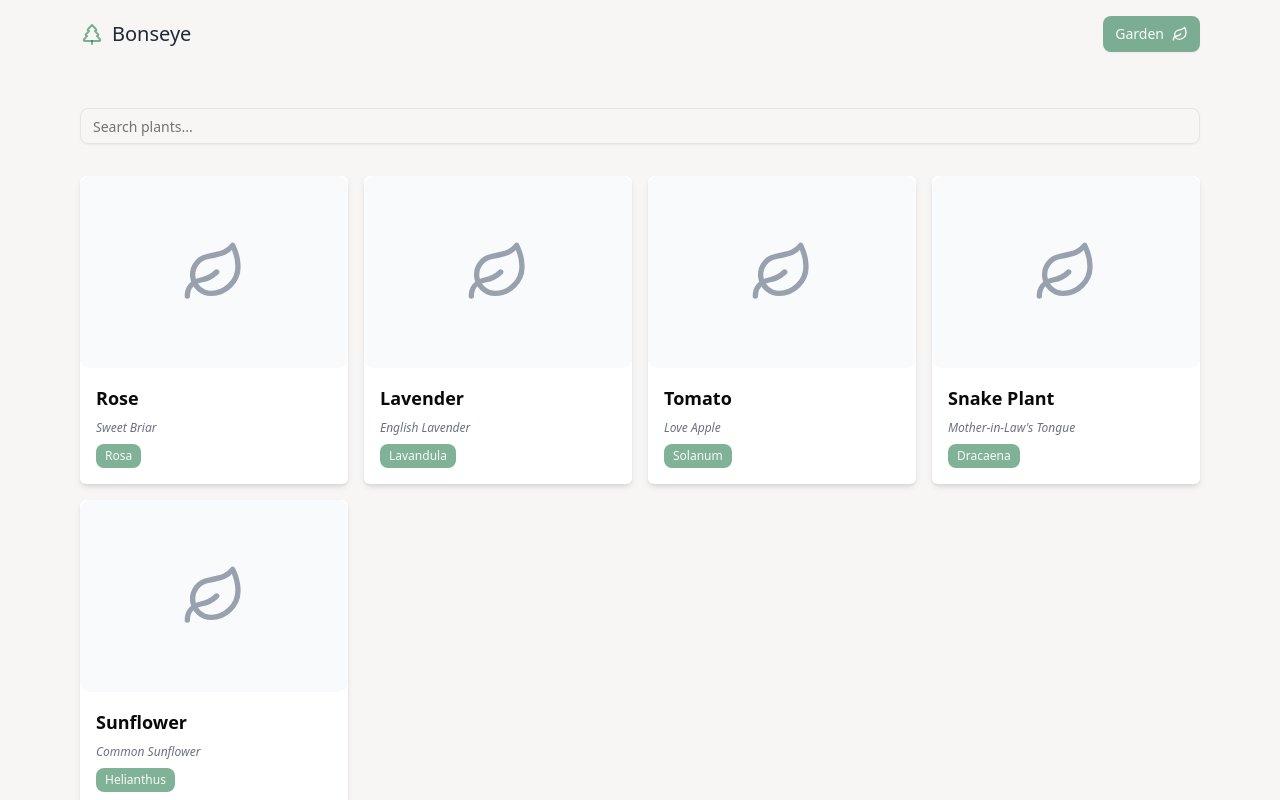
Test: Plant Details Page › toggles garden state from details page and reflects in garden
Click the element with test id "plant-card" showing "Rose Sweet Briar Rosa". click: (214, 330)
box: [80, 176, 348, 484]
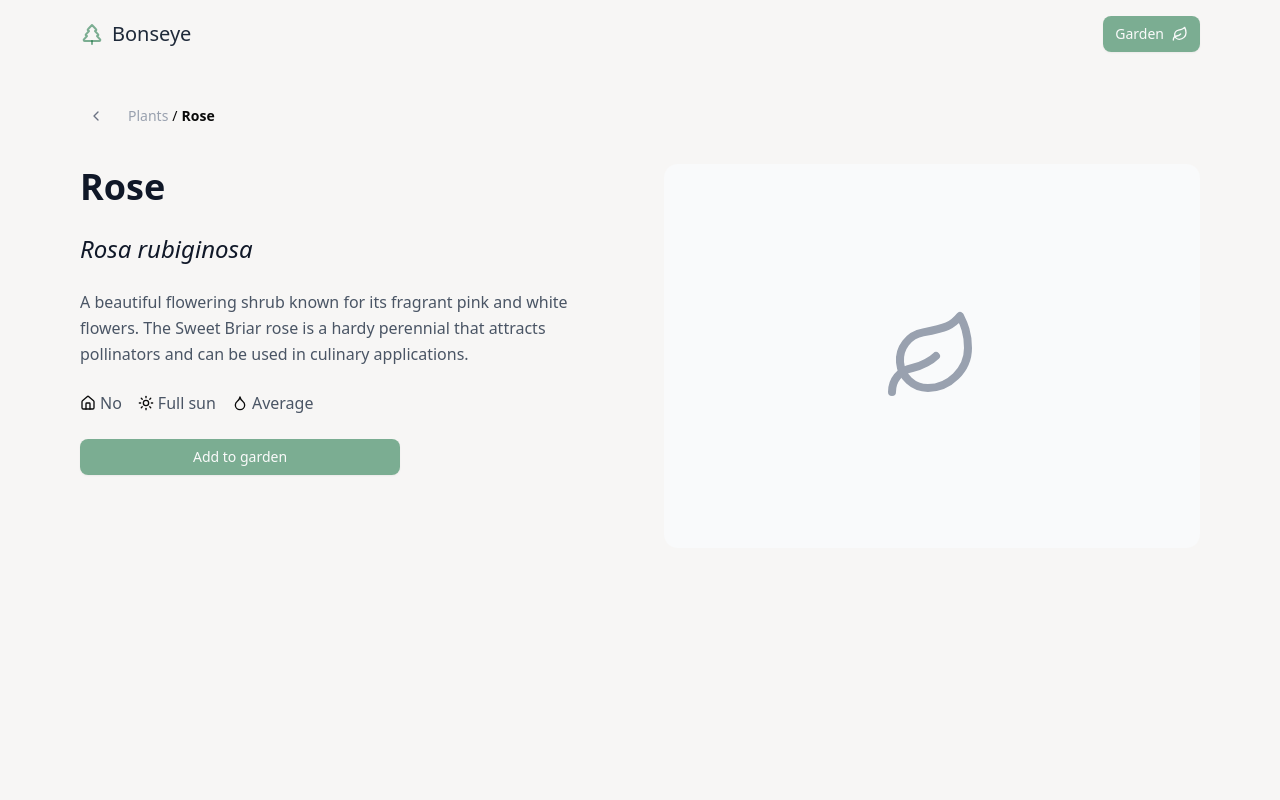
Click the button with test id "button-toggle-garden". click: (240, 457)
box: [80, 439, 400, 475]
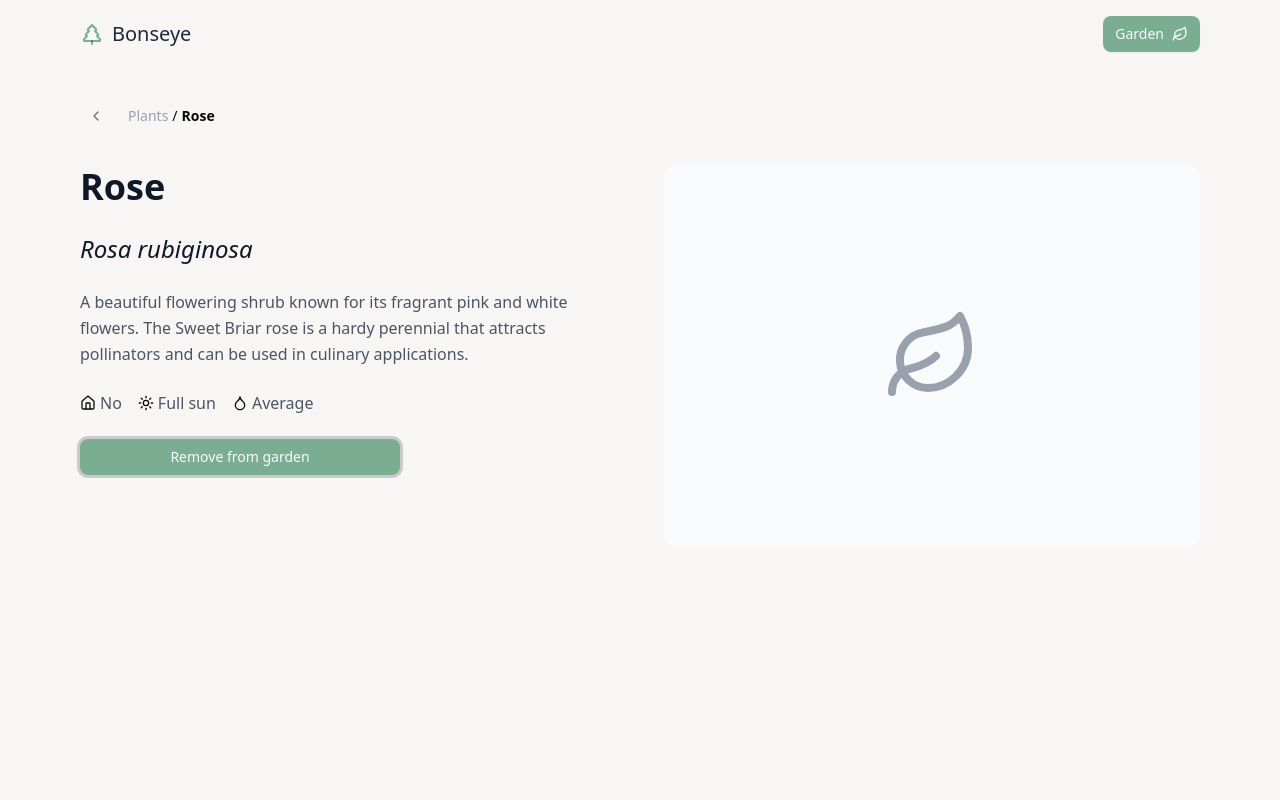
Click the link with test id "link-garden". click: (1152, 34)
box: [1103, 16, 1200, 52]
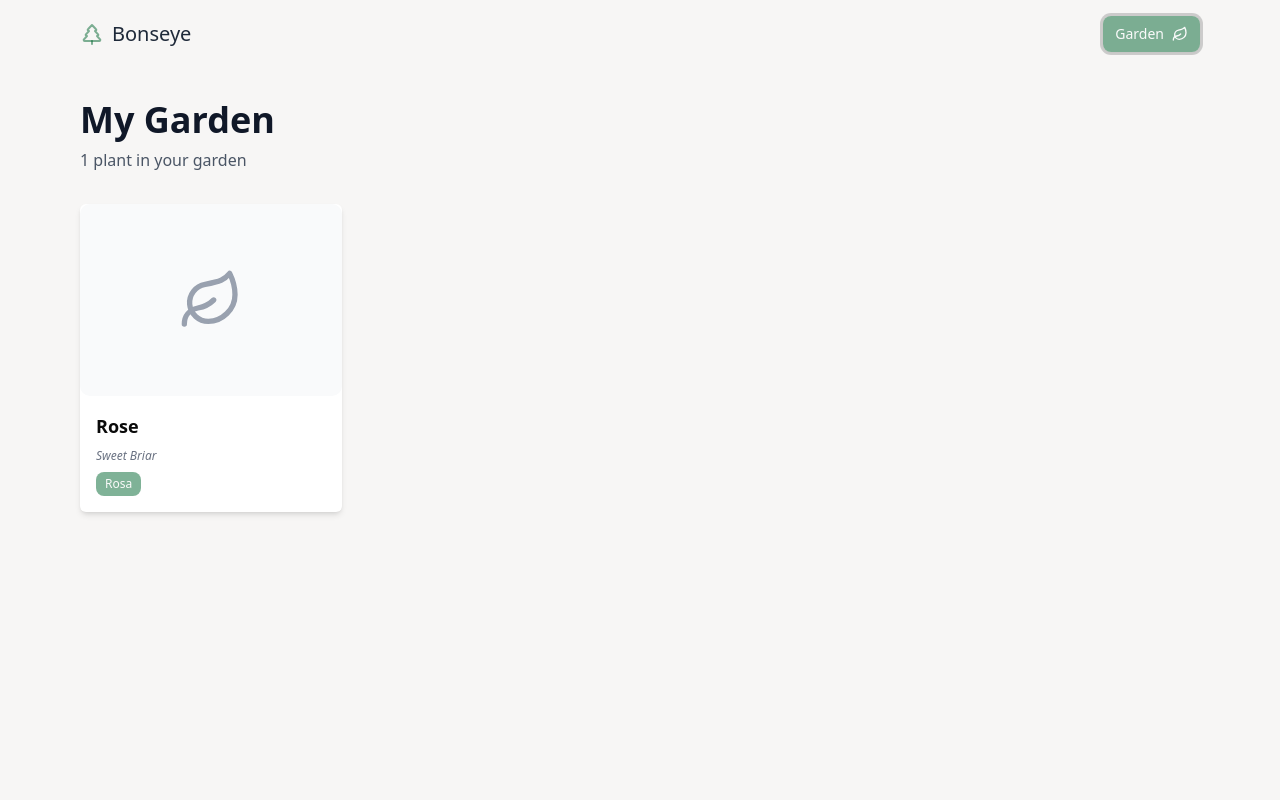
Result: the number of elements with test id "garden-item" is 1 at [80, 204, 342, 512]
Go "back"
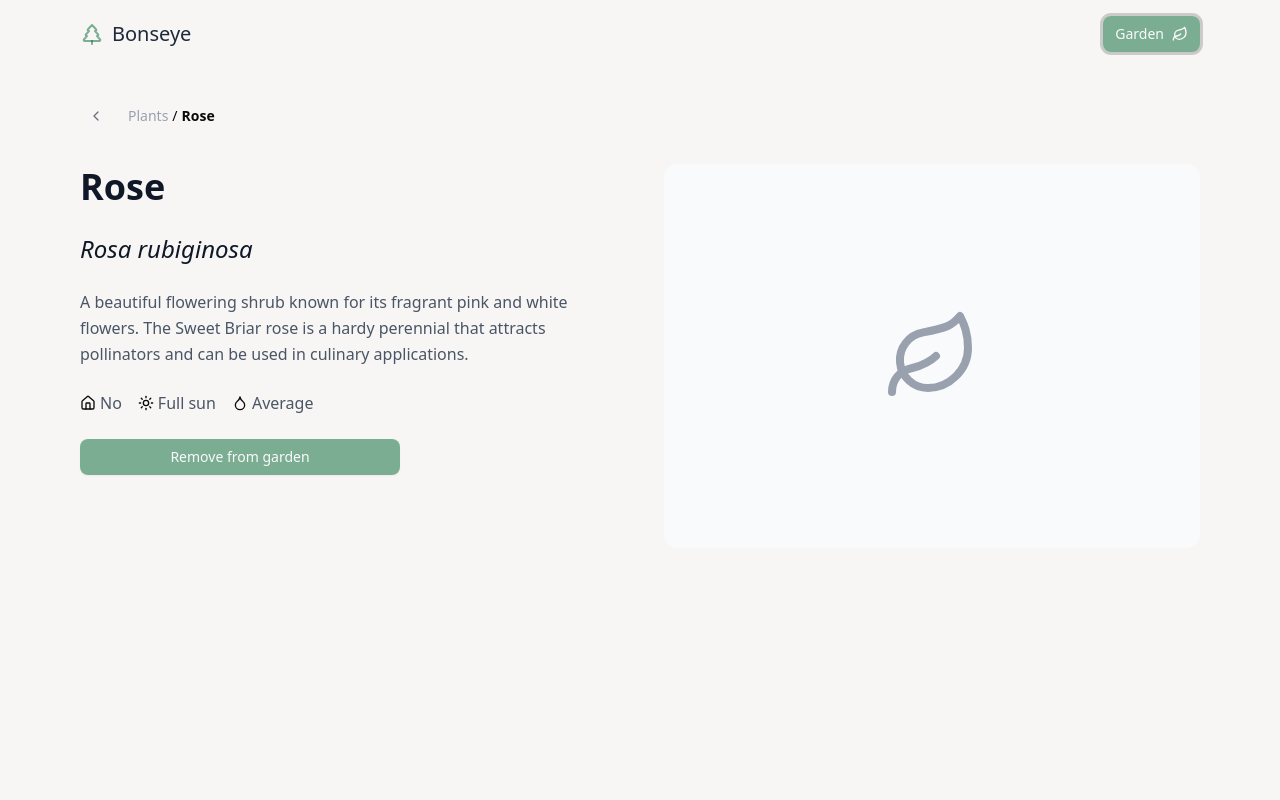
Click the button with test id "button-toggle-garden". click: (240, 457)
box: [80, 439, 400, 475]
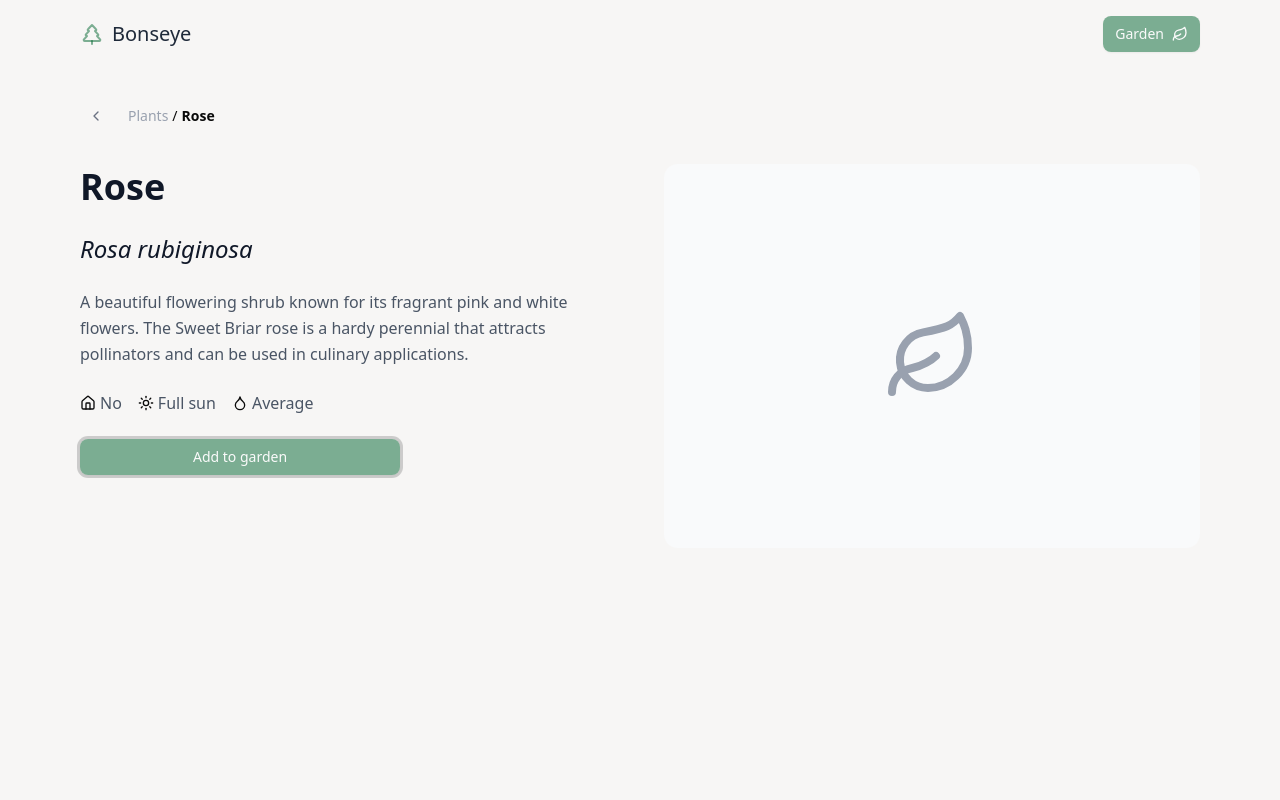
Click the link with test id "link-garden". click: (1152, 34)
box: [1103, 16, 1200, 52]
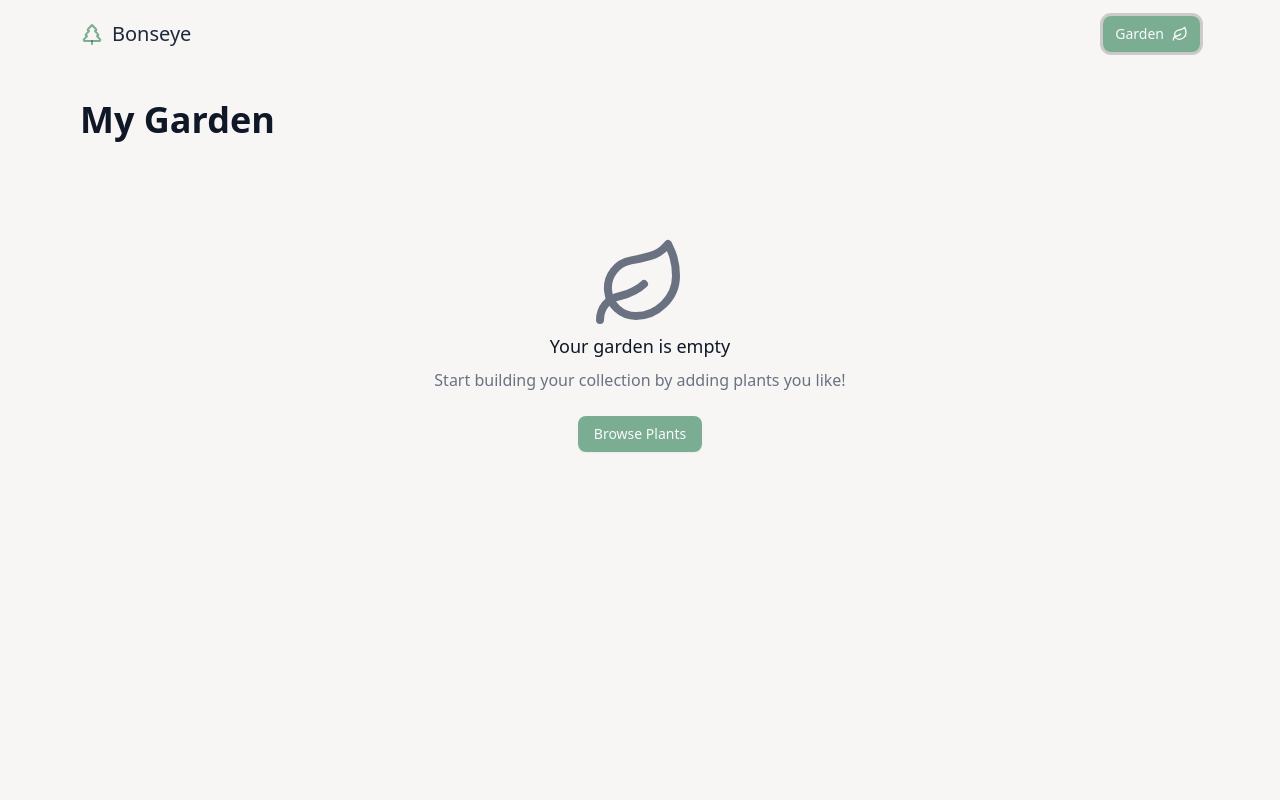
Result: the element with test id "garden-empty" is shown at [434, 236, 845, 452]
